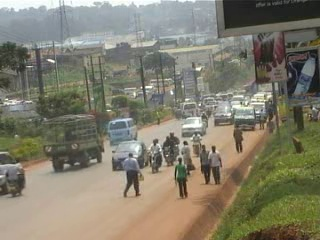Car: (107, 136, 151, 172), (179, 114, 208, 139), (227, 100, 242, 112)
Motorcycle: (4, 158, 28, 199), (147, 137, 162, 175), (160, 136, 175, 169), (188, 130, 205, 159), (167, 131, 180, 163), (197, 109, 211, 132)
